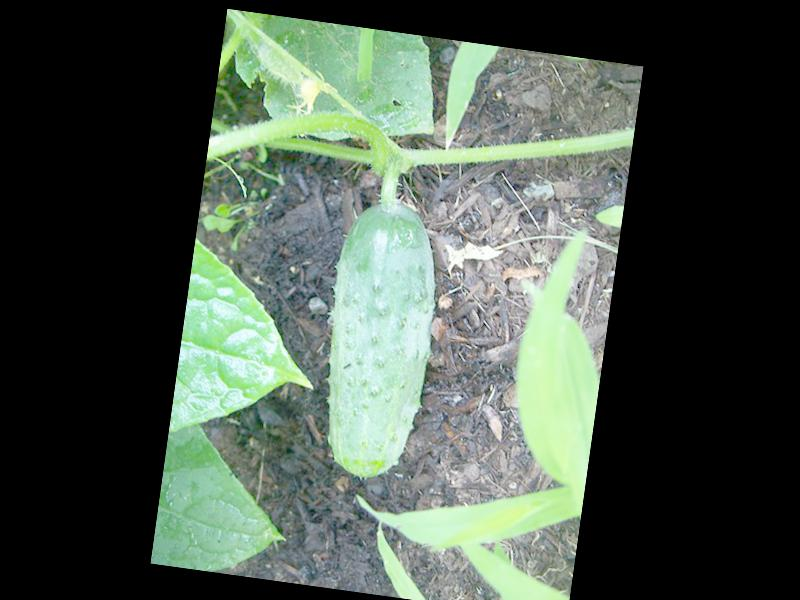Cucumber: (309, 196, 449, 486)
